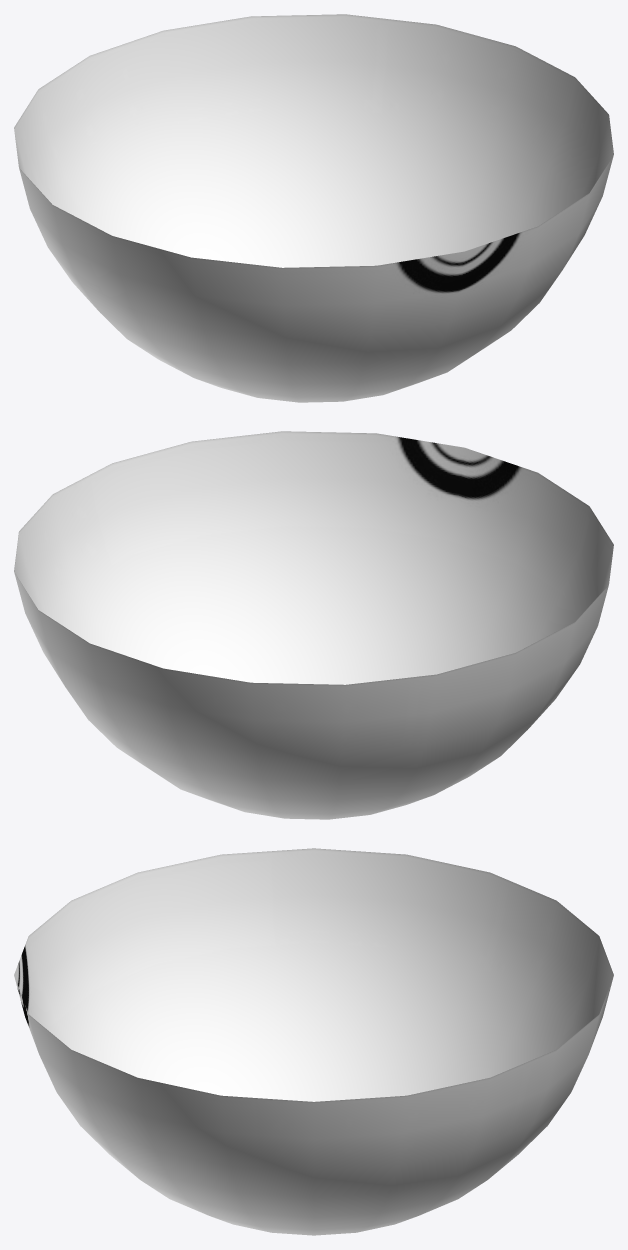
Rendered from PokeAbajo.obj.
3 views of the same model, one above another, from view 1: azimuth 30°, elevation 25°; view 2: azimuth 150°, elevation 25°; view 3: azimuth 270°, elevation 25° (orthographic).
Visible parts, largest first — view 1: polySurface1 pSphere1; view 2: polySurface1 pSphere1; view 3: polySurface1 pSphere1.
Part boxes in pixels (bbox=[...]): polySurface1 pSphere1: bbox=[14, 14, 613, 402]; polySurface1 pSphere1: bbox=[14, 431, 613, 819]; polySurface1 pSphere1: bbox=[14, 848, 613, 1235].
Bounding box in the file's own units: 1.98 × 0.8436 × 1.98.
Materials: 1 (1 with a texture image).
